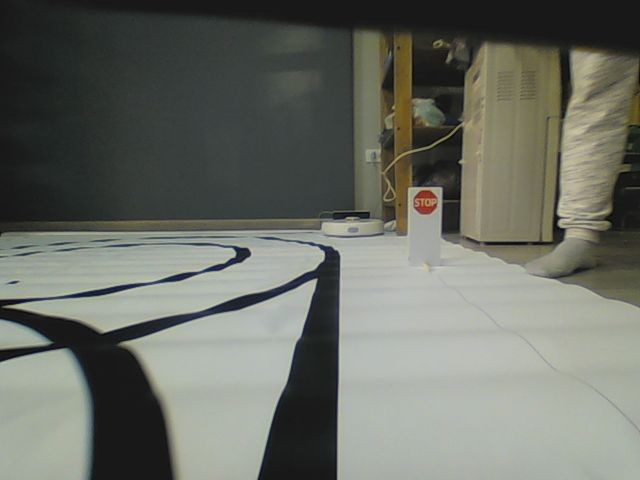Stop: (412, 189, 439, 214)
